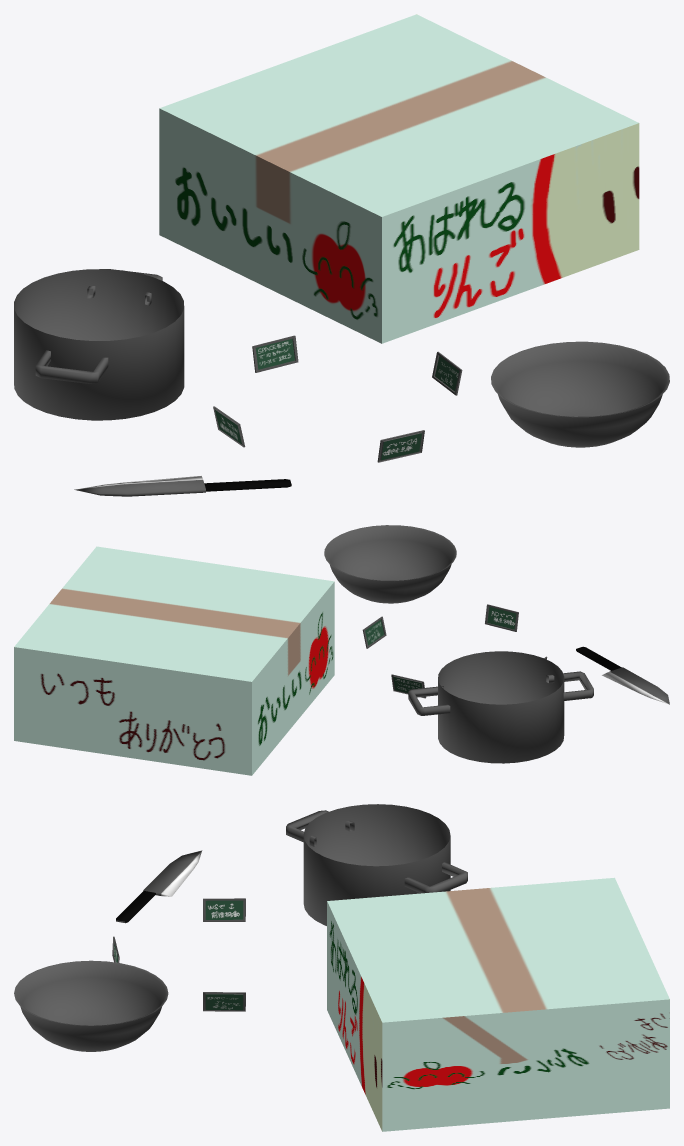
The model's file is backGround.obj.
3 views of the same model, one above another, from view 1: azimuth 30°, elevation 25°; view 2: azimuth 150°, elevation 25°; view 3: azimuth 270°, elevation 25° (orthographic). The views are drawn at different scales.
Visible parts, largest first — view 1: Cylinder; view 2: Cylinder; view 3: Cylinder.
Boxes of the visible parts, bbox=[...] form: Cylinder: bbox=[14, 14, 669, 496]; Cylinder: bbox=[14, 525, 669, 775]; Cylinder: bbox=[14, 804, 669, 1131].
Size of the model in its own units: 455 by 83.3 by 448.
Materials: 1 (1 with a texture image).
